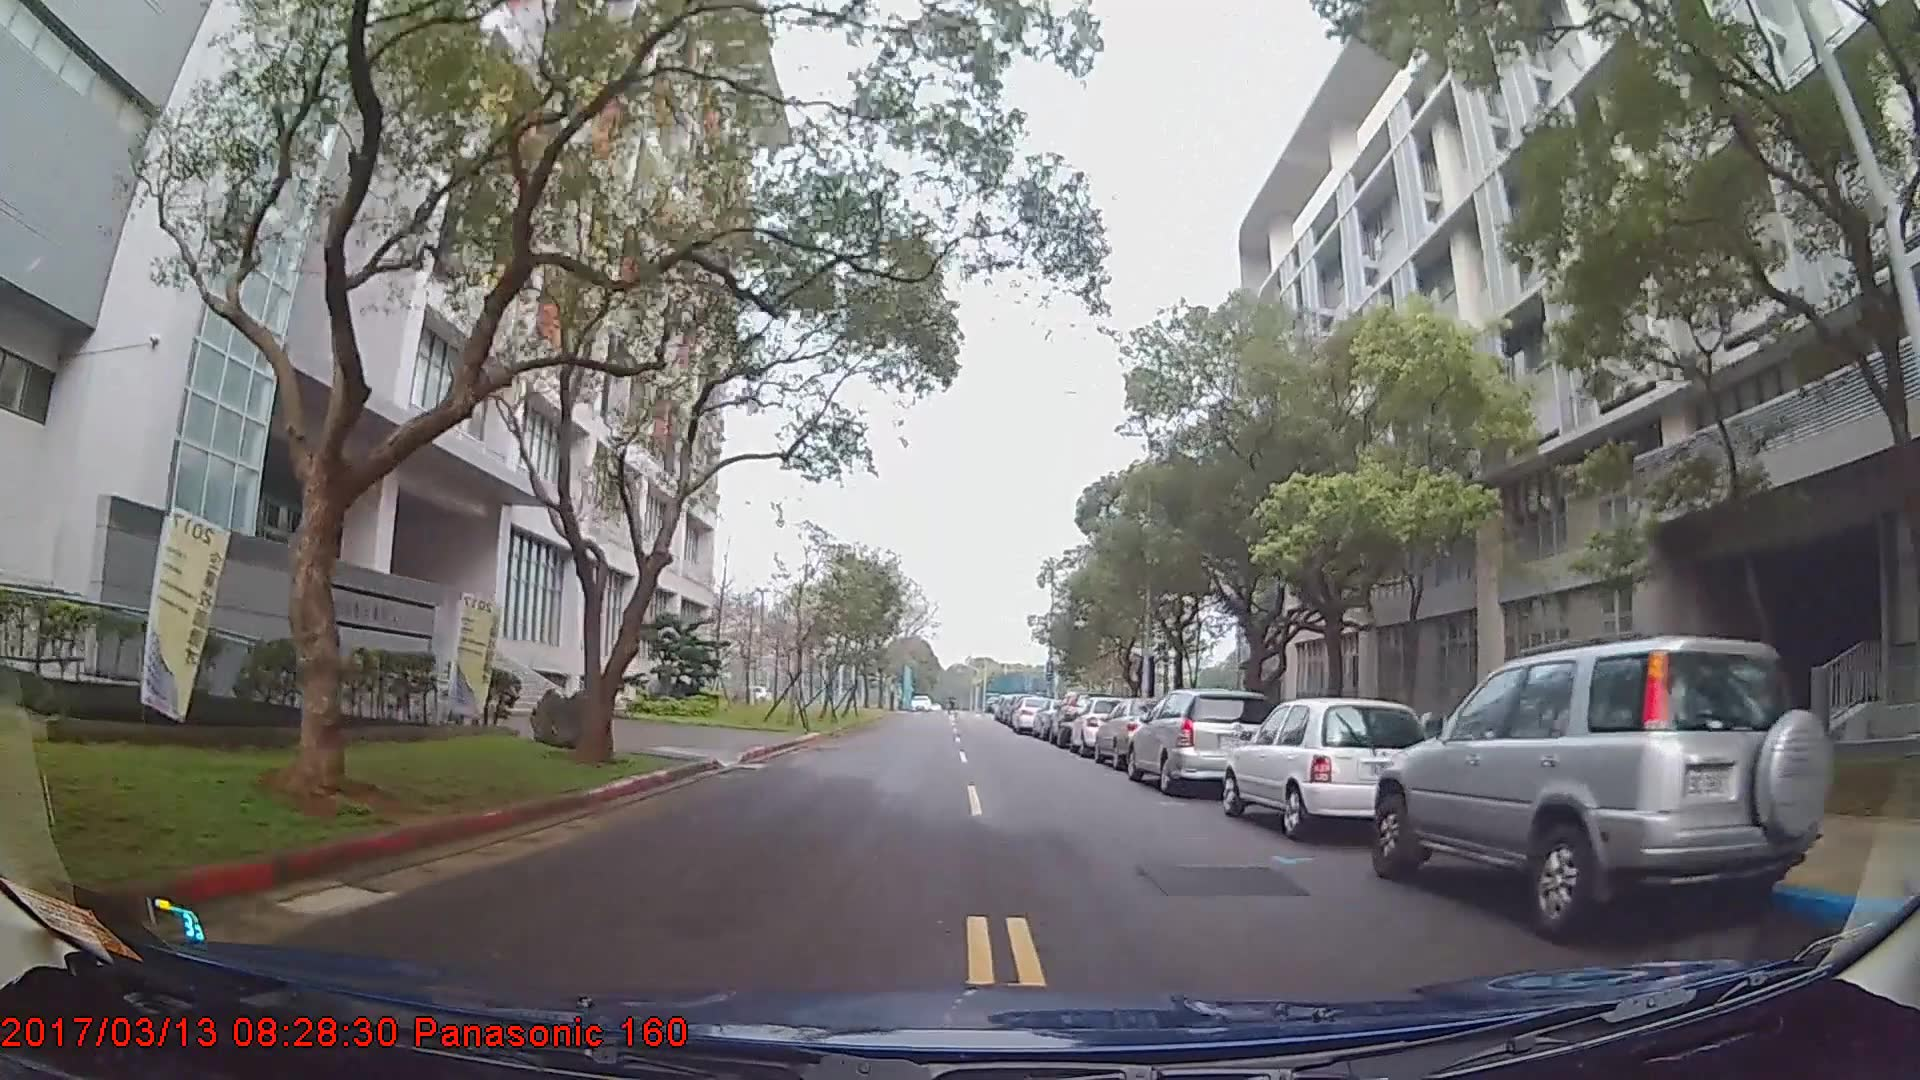vehicle: (1370, 630, 1836, 942), (1222, 694, 1433, 840), (1122, 686, 1276, 794), (1091, 692, 1182, 767), (1007, 692, 1054, 733)
